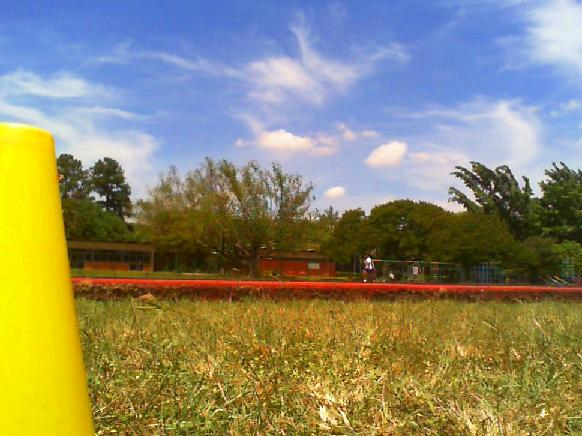0 cone: (0, 123, 96, 436)
